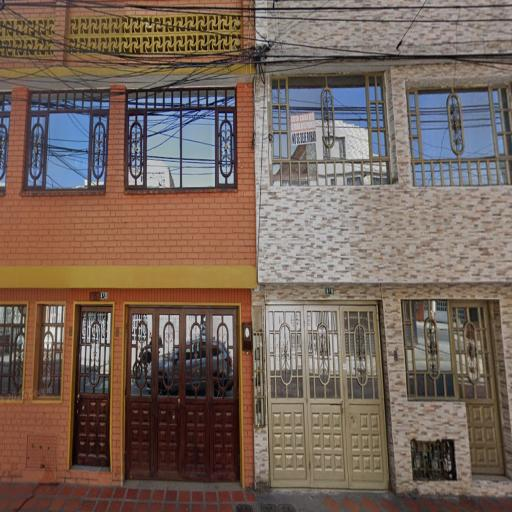Casa: (252, 0, 512, 494), (0, 0, 255, 490)
